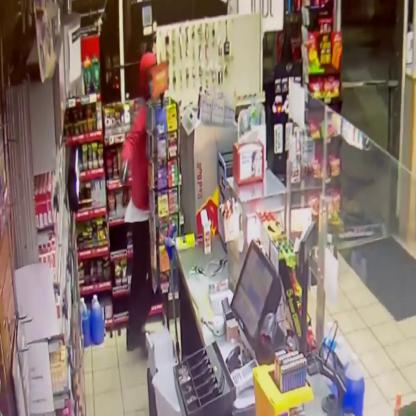Pistol: (116, 148, 134, 186)
